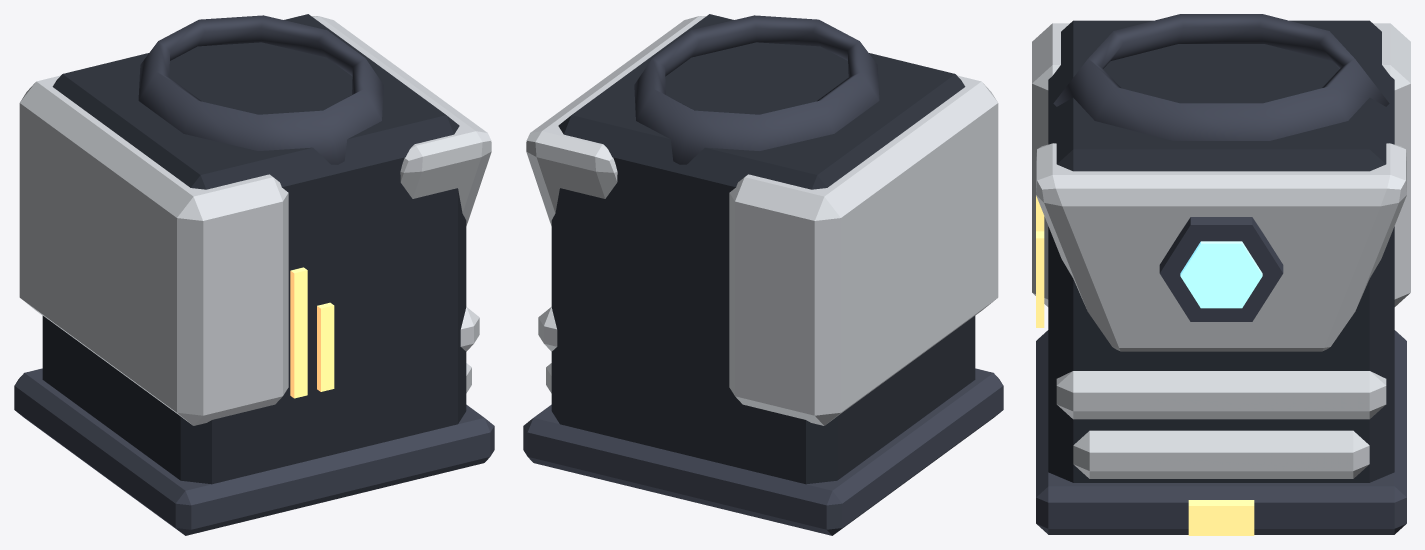
The model's file is chest.glb.
The picture shows the model from 3 angles, left to right: view 1: azimuth 30°, elevation 25°; view 2: azimuth 150°, elevation 25°; view 3: azimuth 270°, elevation 25°; orthographic projection. The views are drawn at different scales.
Visible parts, largest first — view 1: Chest; view 2: Chest; view 3: Chest.
Part boxes in pixels (box(x1,y1,x2,y2)): Chest: box(14, 14, 494, 535); Chest: box(523, 14, 1003, 535); Chest: box(1032, 14, 1410, 535).
Size of the model in its own units: 1.02 by 1.08 by 0.92.
Materials: 2 (1 with a texture image).
